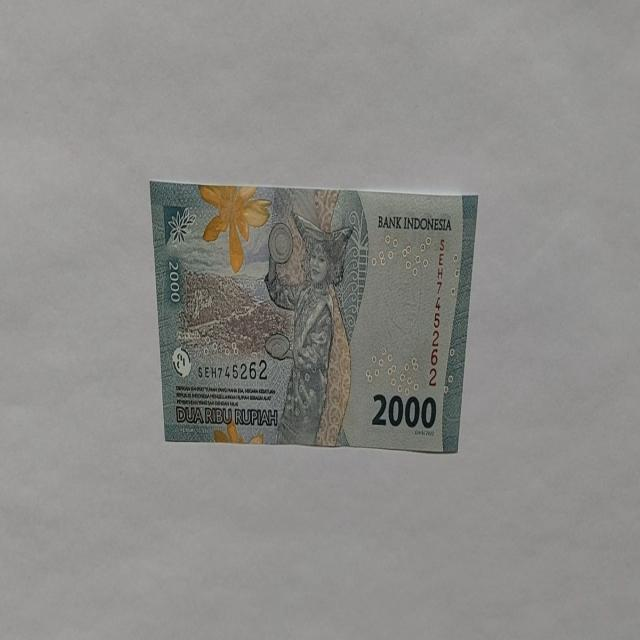dua ribu rupiah: (149, 180, 479, 454), (262, 209, 354, 446), (197, 184, 272, 274)
